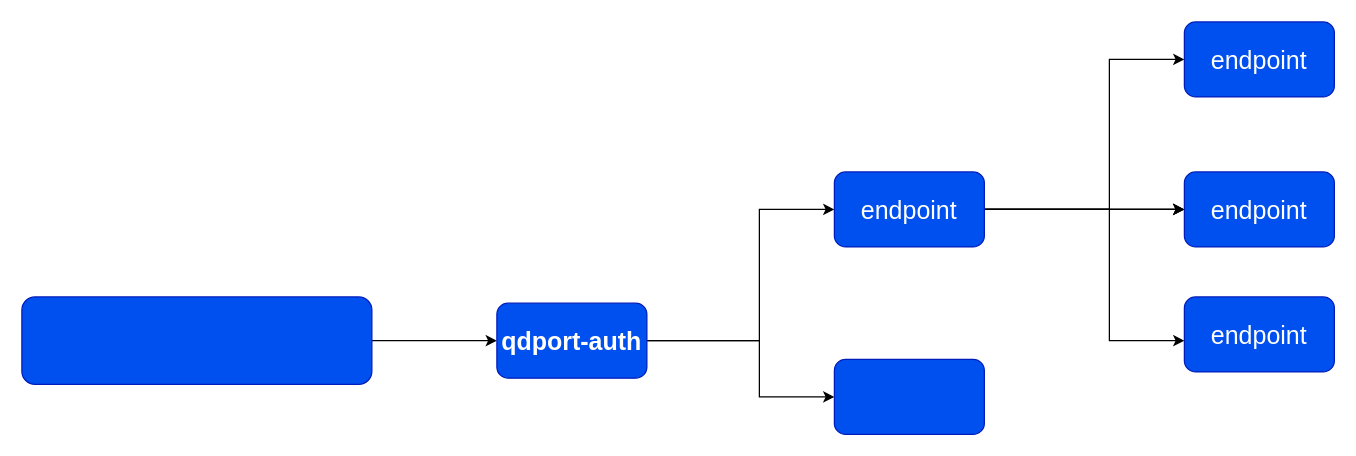
Image size: 1356x456. Some labels were removed from this diagram. Each missing label, with the box of its shape:
fliter: (833, 358, 984, 434)
qdport-cloud-api: (21, 296, 372, 384)
